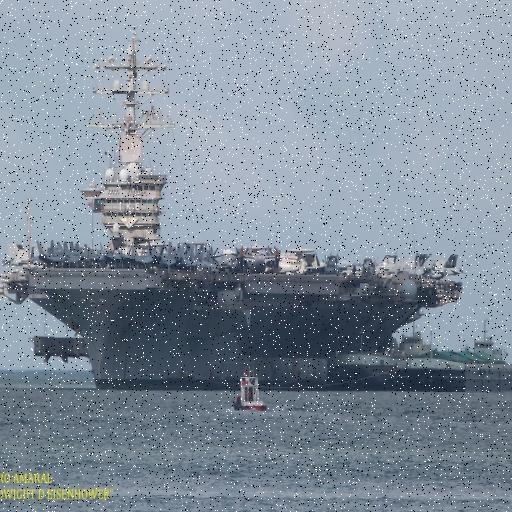Portanaves: (1, 32, 465, 406)
